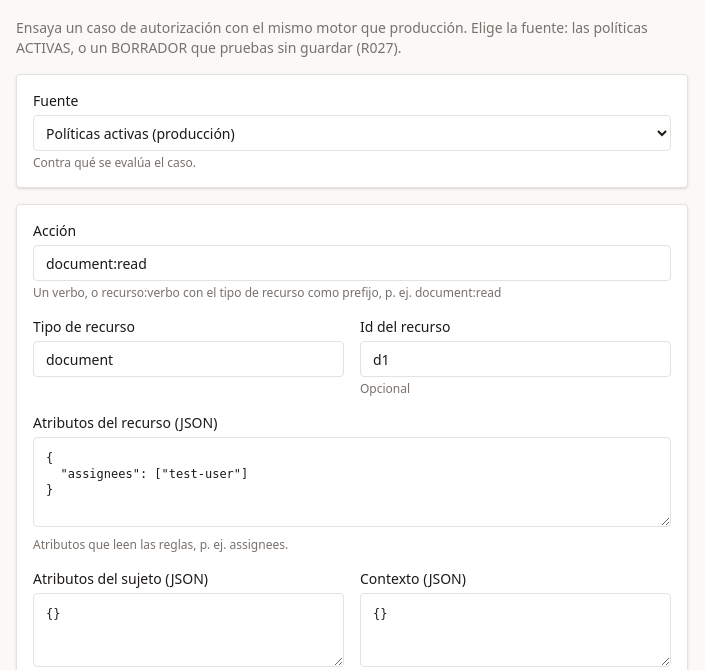
Test: PolicyTesterScreen › simulates a pasted draft via :simulate (dry-run, R027)
// Switch source to "draft" — the skeleton document is prefilled and valid.
Select "Borrador (simular sin guardar)" in the dropdown: (352, 133) top-left (33, 115), bottom-right (671, 151)
(page scrolled)
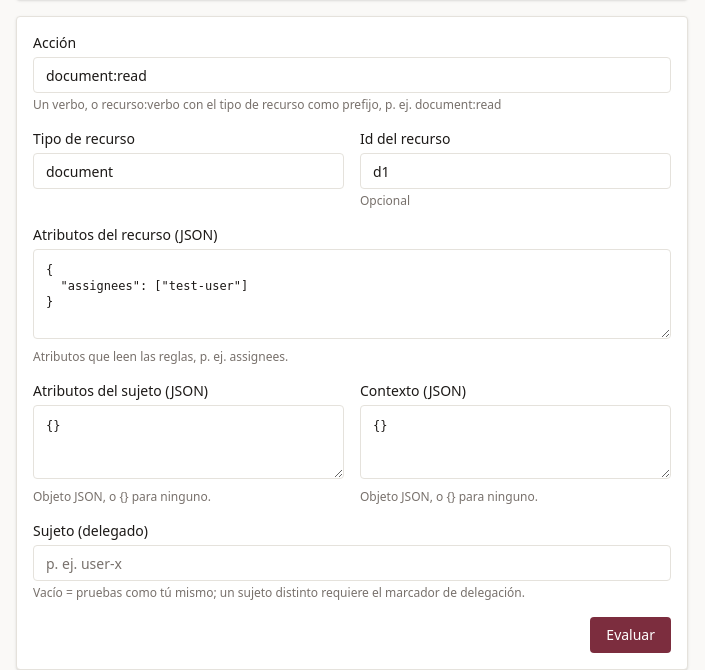
Click the button "Evaluar": (631, 635) top-left (590, 617), bottom-right (671, 653)
(page scrolled)
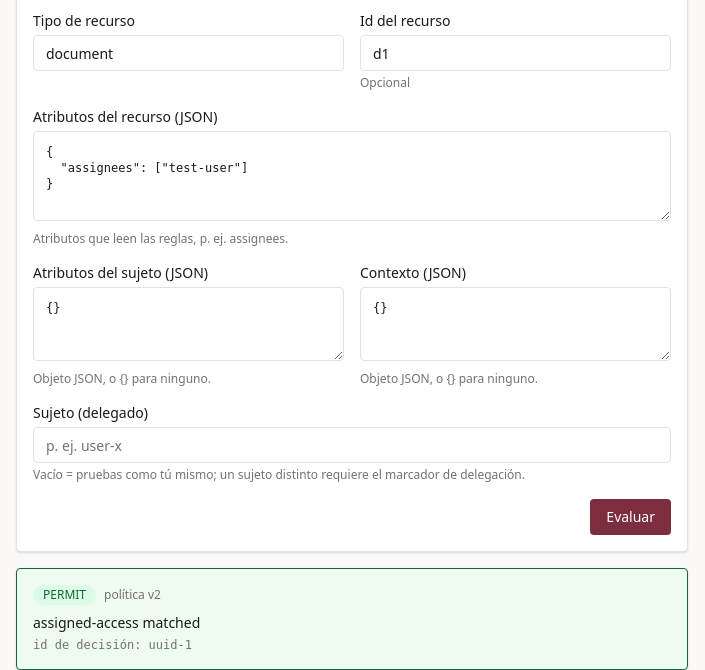
Now the text "PERMIT" is shown, box top-left (33, 585), bottom-right (96, 605)
